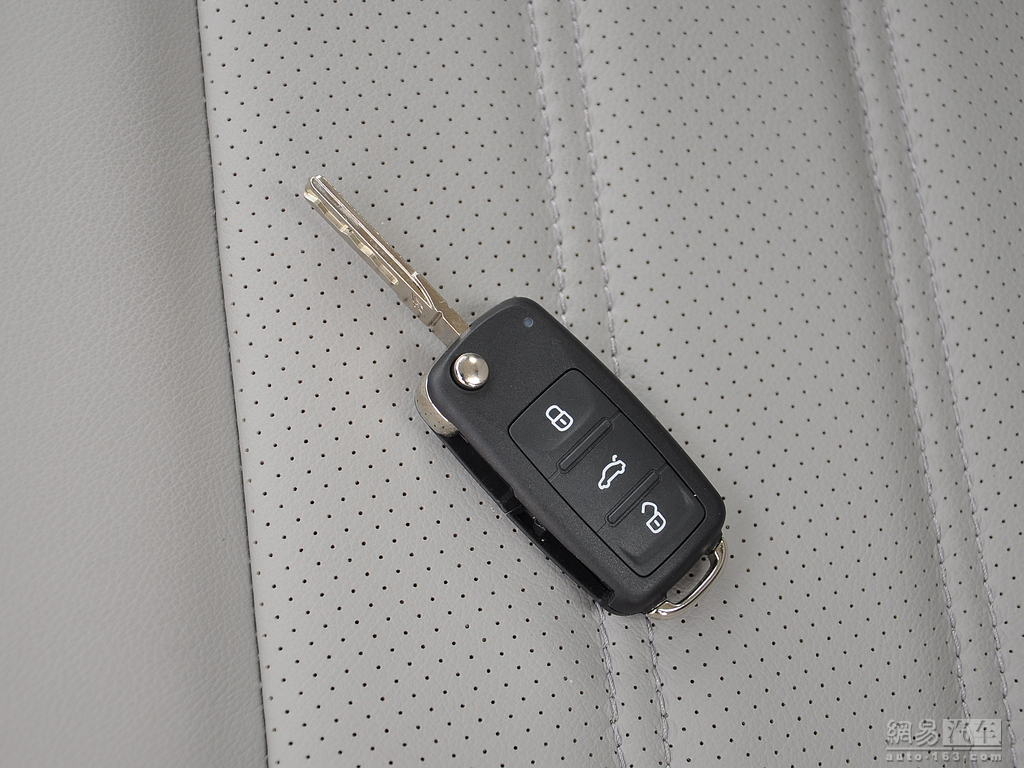key: (298, 166, 733, 620)
